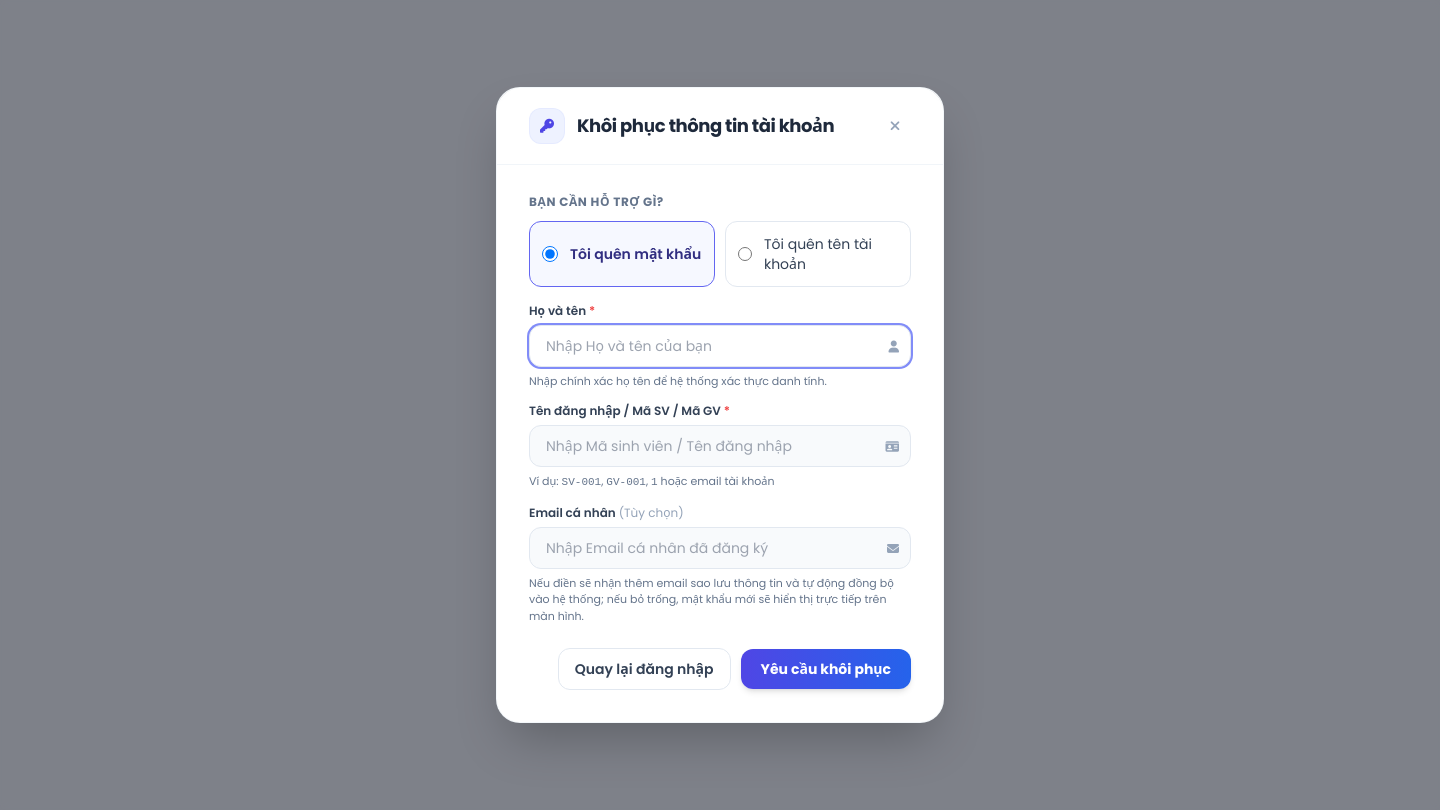
Scenario: ForgotPasswordModal › switches to "Tôi quên tên tài khoản" and renders Họ tên, Mã/SĐT and optional Email field
This screenshot has width=1440, height=810.
Click the radio button labelled "Tôi quên tên tài khoản": (745, 254) [738,246,752,262]
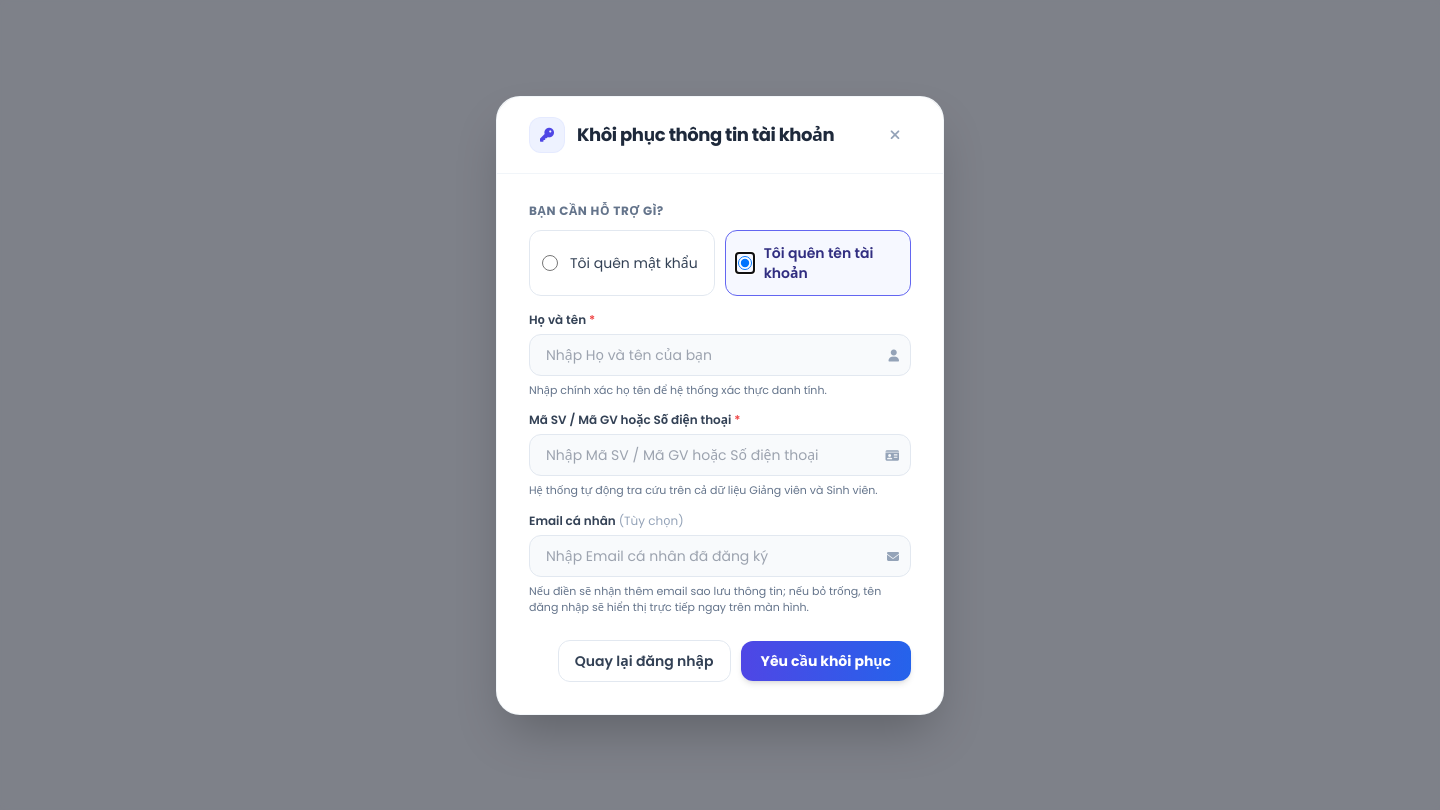
Check: the radio button labelled "Tôi quên tên tài khoản" is checked, box [738,254,752,270]
Check: the radio button labelled "Tôi quên mật khẩu" is not checked, box [542,254,558,270]
Check: the field with placeholder "Nhập Mã SV / Mã GV hoặc Số điện thoại" is shown, box [529,434,911,476]
